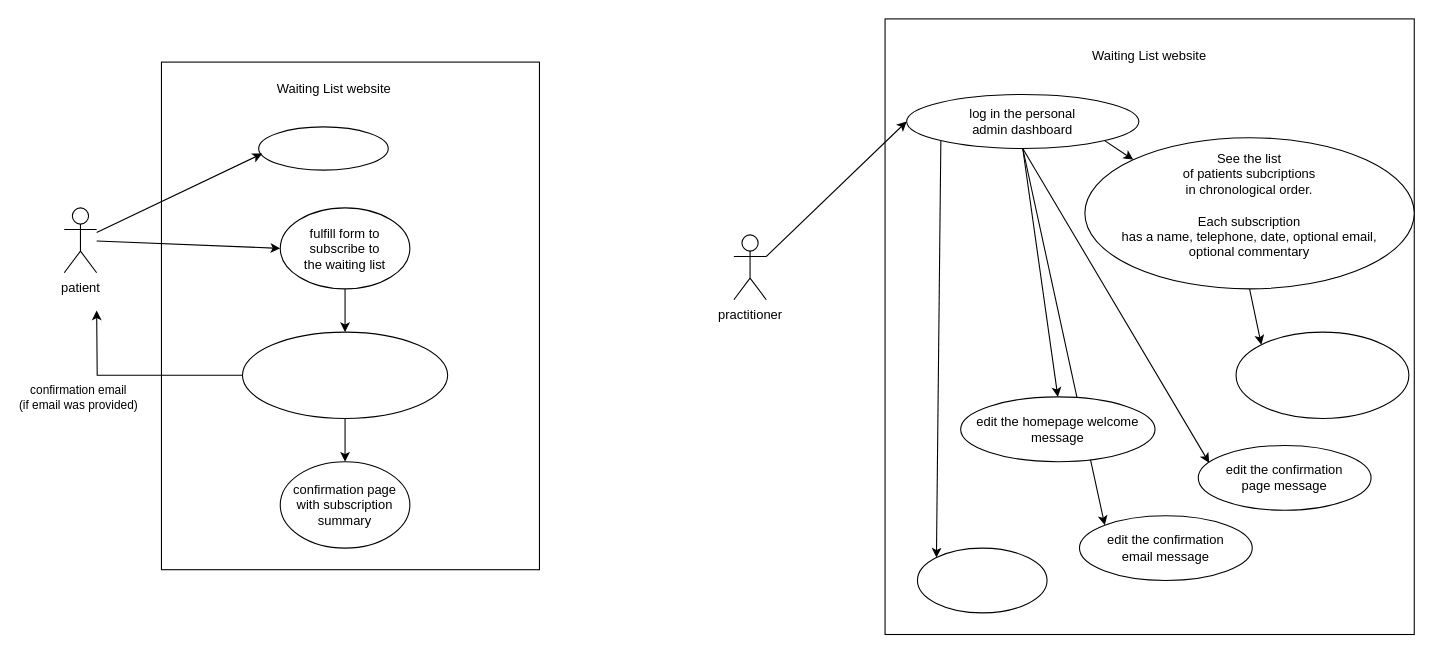
This 1433x653 diagram has some shape labels left out. Each missing label, with the centre of its shape:
delete a subscription: point (1322, 374)
give name, telephone, optional email, optional commentary: point (344, 374)
logout: point (981, 580)
receive welcome on the homepage: point (323, 148)
